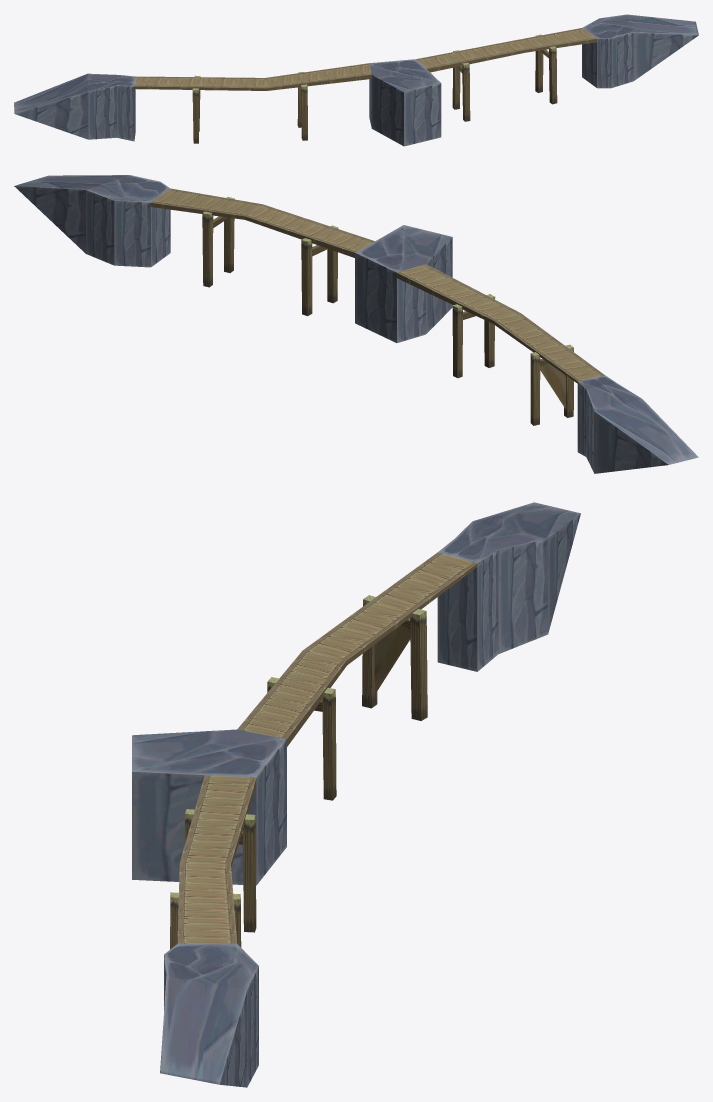
Rendered from Outset Island water Birdge House.fbx.
3 renders of one model, top to bottom at view 1: azimuth 30°, elevation 25°; view 2: azimuth 150°, elevation 25°; view 3: azimuth 270°, elevation 25°, orthographic. The views are drawn at different scales.
Visible parts, largest first — view 1: Island.004; view 2: Island.004; view 3: Island.004.
Part boxes in pixels (x1,y1,x2,y2): Island.004: (14,14,698,146); Island.004: (14,175,698,473); Island.004: (132,502,580,1087).
Bounding box in the file's own units: 466 × 43.55 × 150.
